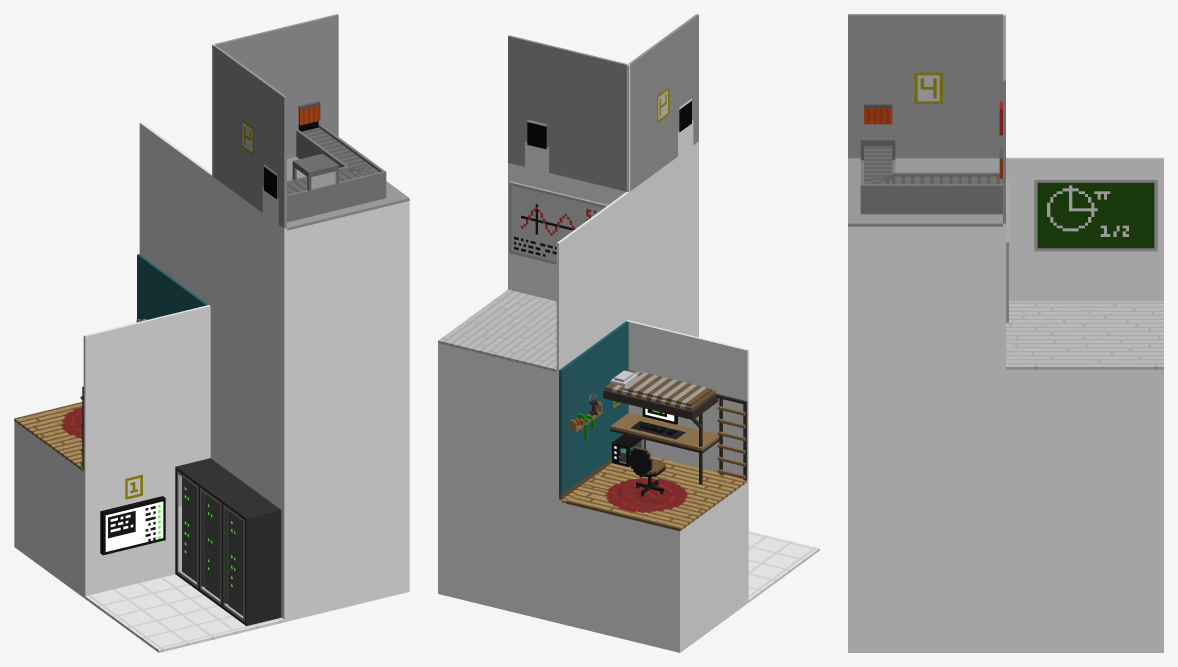
3 views of the same model, side by side, from view 1: azimuth 30°, elevation 25°; view 2: azimuth 150°, elevation 25°; view 3: azimuth 270°, elevation 25° (orthographic). The views are drawn at different scales.
Parts seen in each view (by area): view 1: monu2; view 2: monu2; view 3: monu2.
Boxes of the visible parts, <box> form: monu2: <box>14,14,409,652</box>; monu2: <box>438,14,819,652</box>; monu2: <box>848,14,1163,652</box>.
Bounding box in the file's own units: 100 × 200 × 100.
